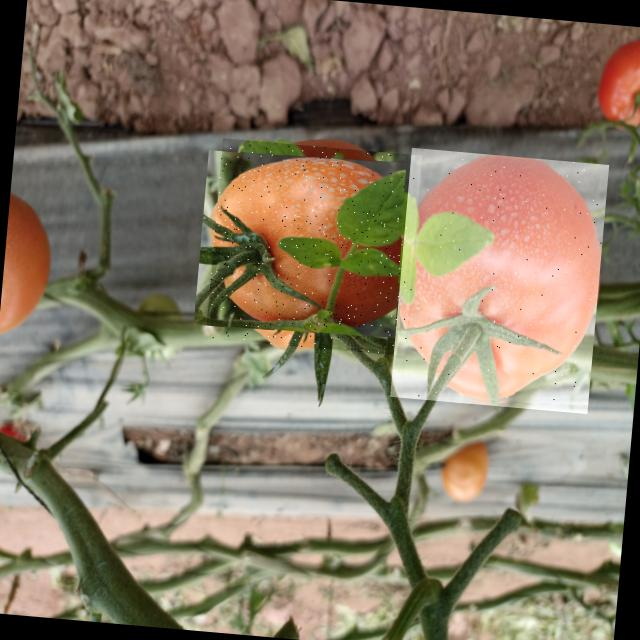Ripe Tomato: (390, 148, 609, 414)
Unripe Tomato: (205, 137, 422, 356)
